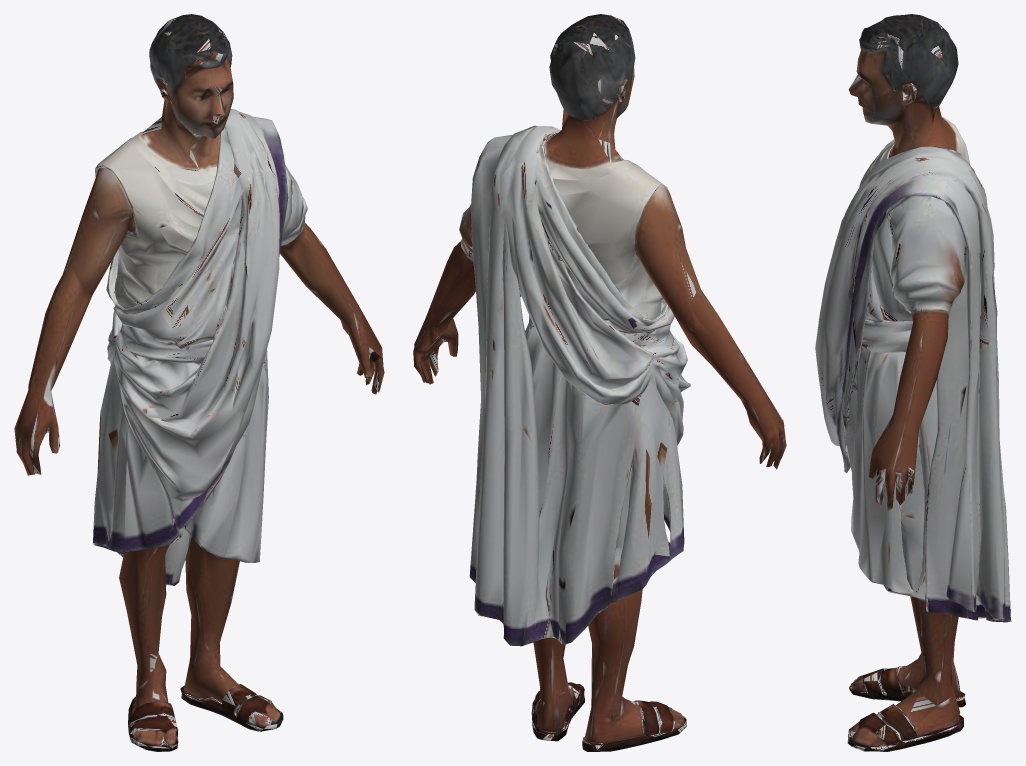
Rendered from consul.glb.
The picture shows the model from 3 angles, left to right: view 1: azimuth 30°, elevation 25°; view 2: azimuth 150°, elevation 25°; view 3: azimuth 270°, elevation 25°; orthographic projection.
Visible parts, largest first — view 1: consul; view 2: consul; view 3: consul.
Part boxes in pixels (<box>): consul: <box>14,14,384,751</box>; consul: <box>413,14,786,751</box>; consul: <box>815,14,1011,751</box>.
Size of the model in its own units: 0.9676 by 1.8 by 0.4567.
Materials: 1 (1 with a texture image).
